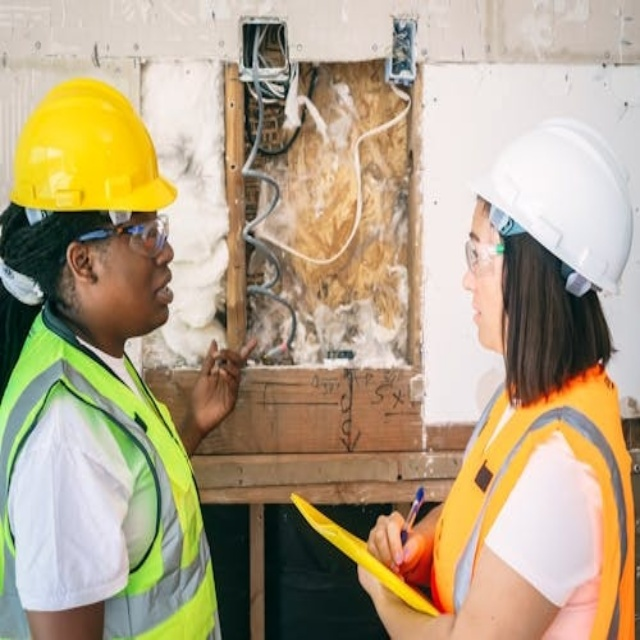Gafas: (68, 210, 175, 254), (463, 230, 507, 273)
Sin_guantes: (189, 329, 259, 430), (367, 508, 421, 578)
Sin_mascara: (122, 270, 177, 324), (467, 295, 499, 346)
